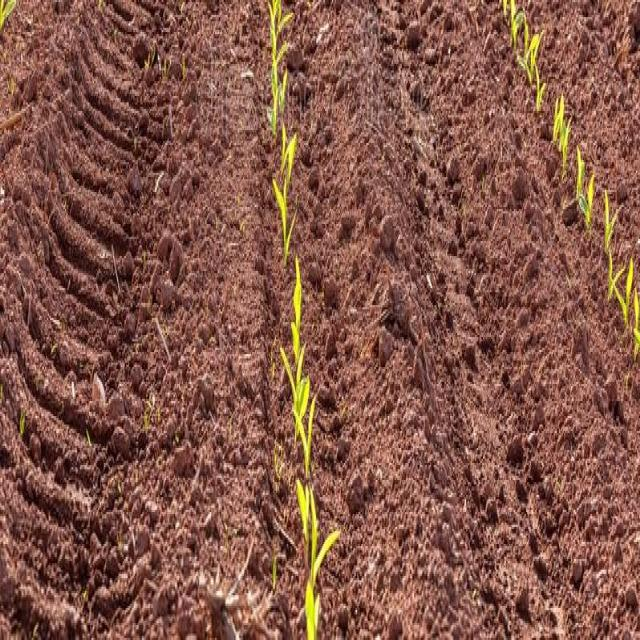row: (291, 0, 640, 640), (0, 0, 304, 639), (522, 0, 640, 261)
